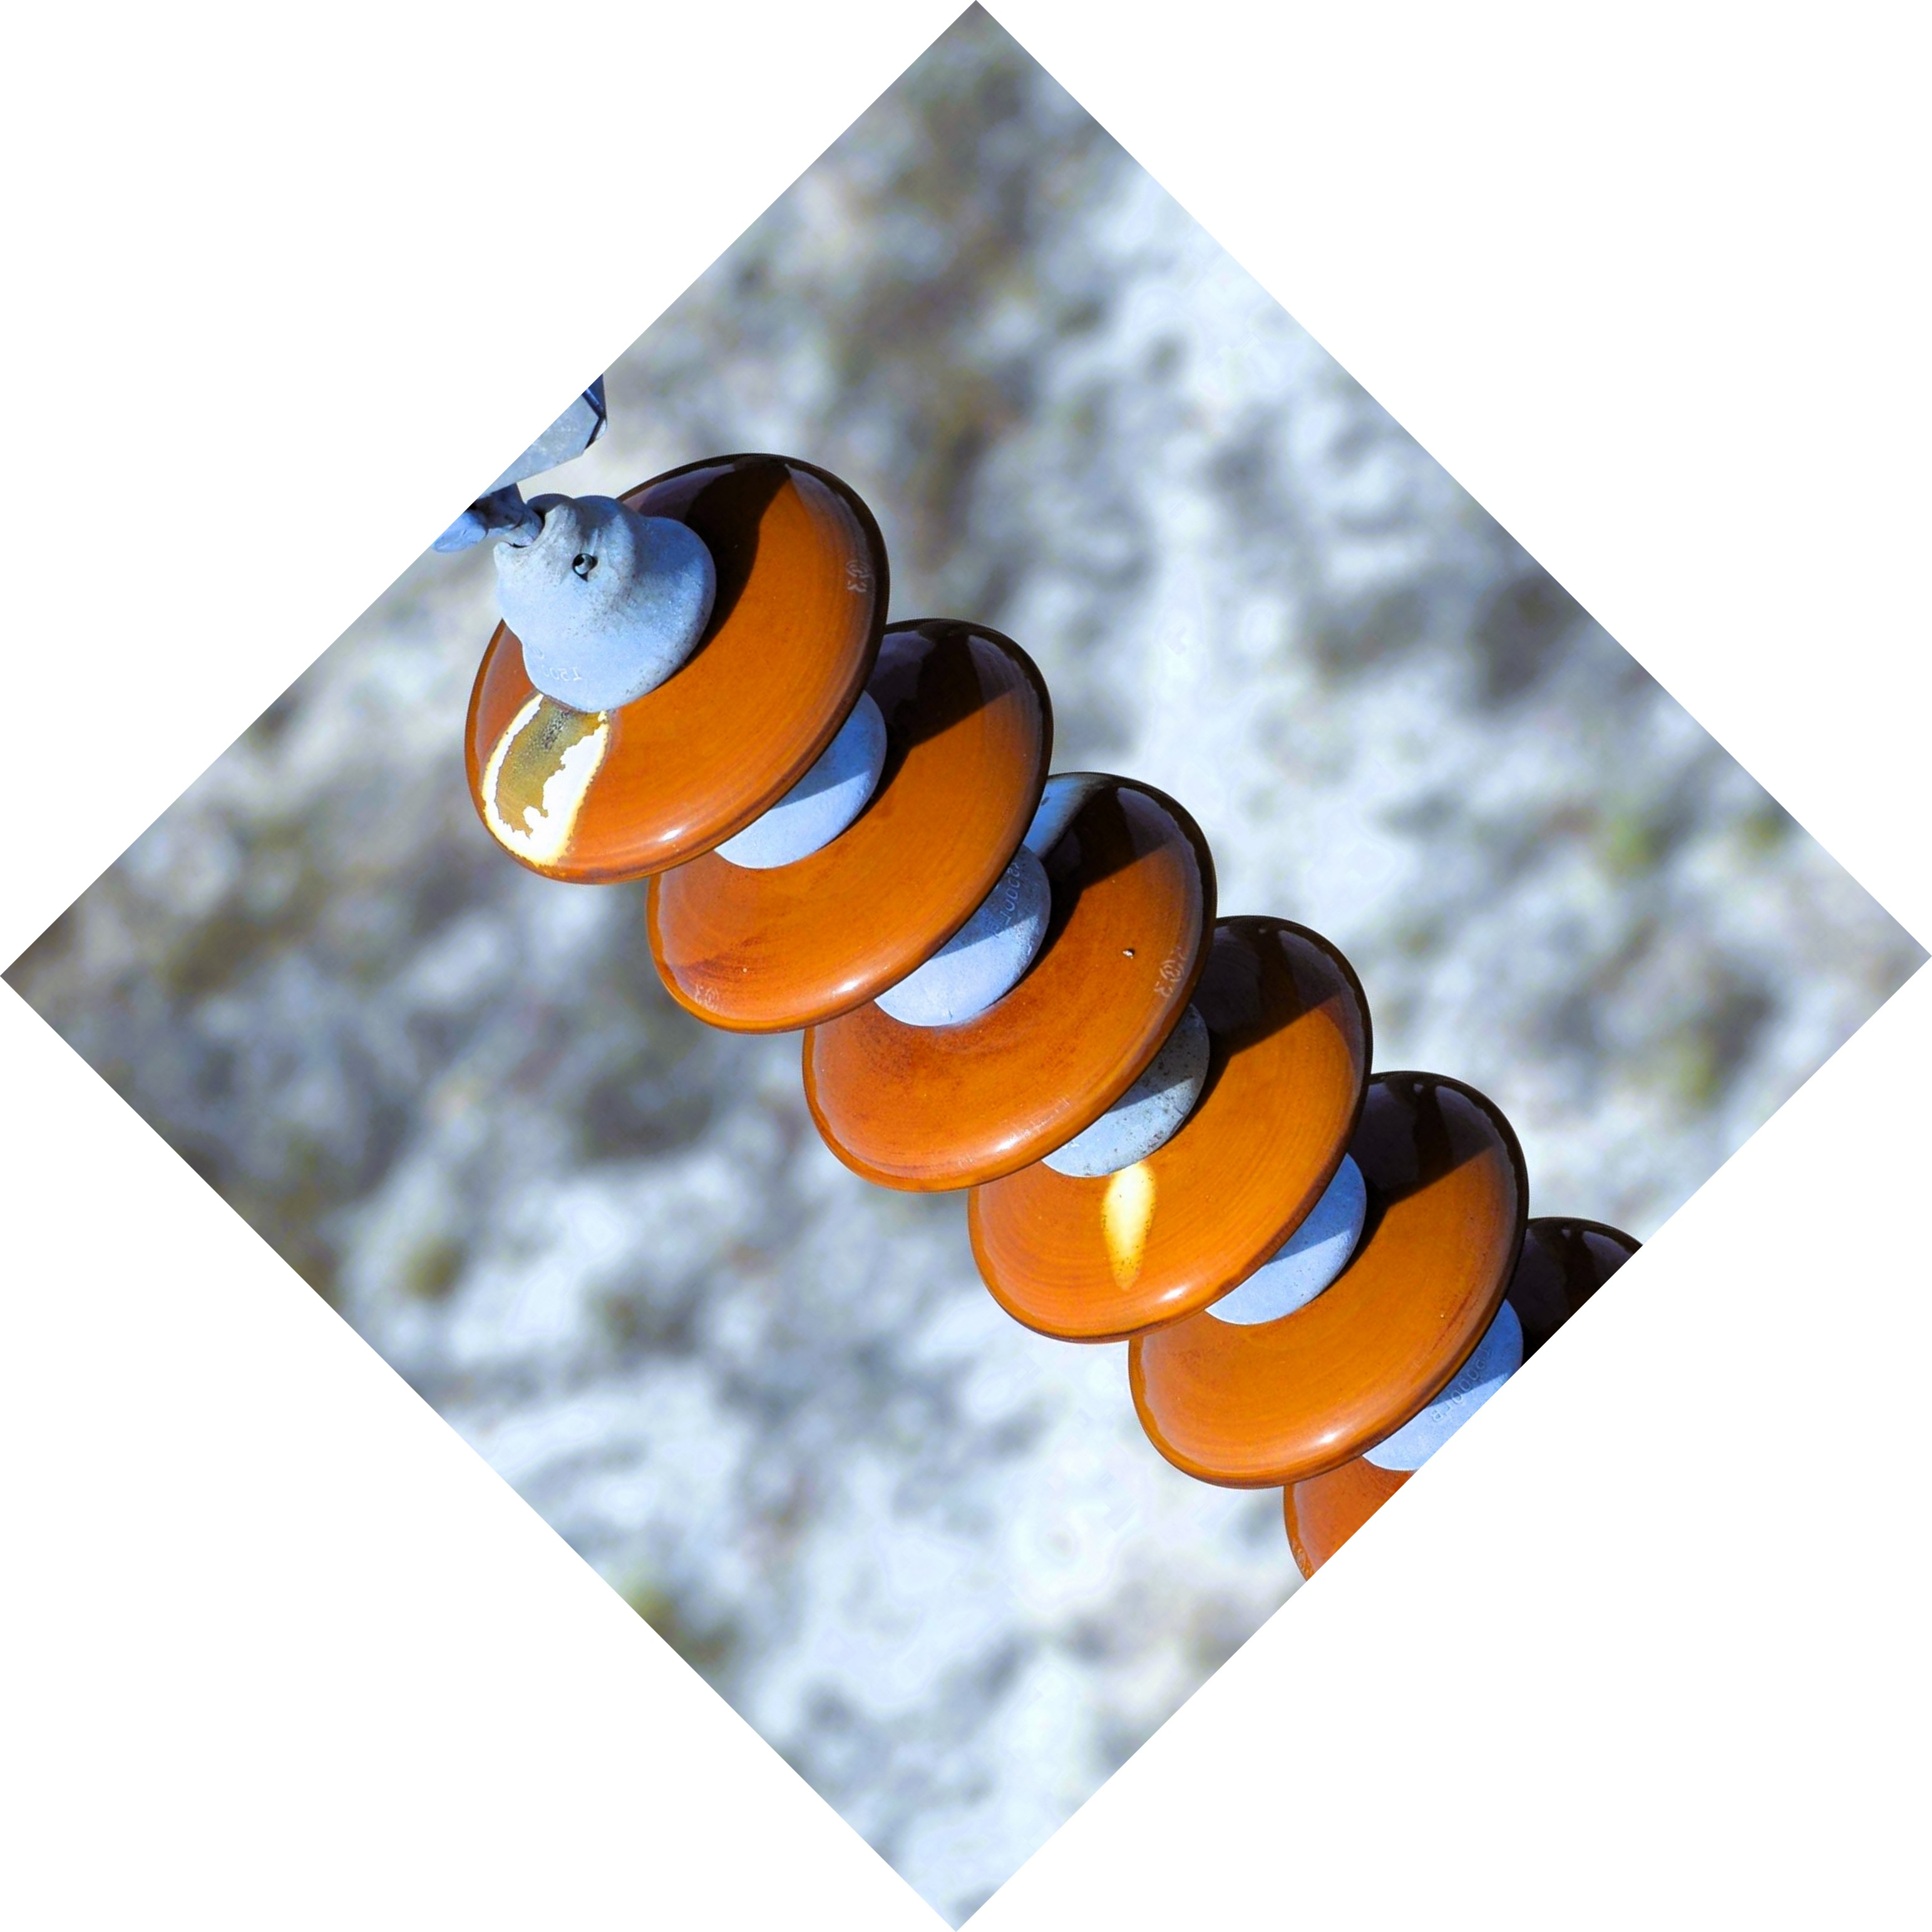Insulator flashover: (453, 433, 902, 908)
